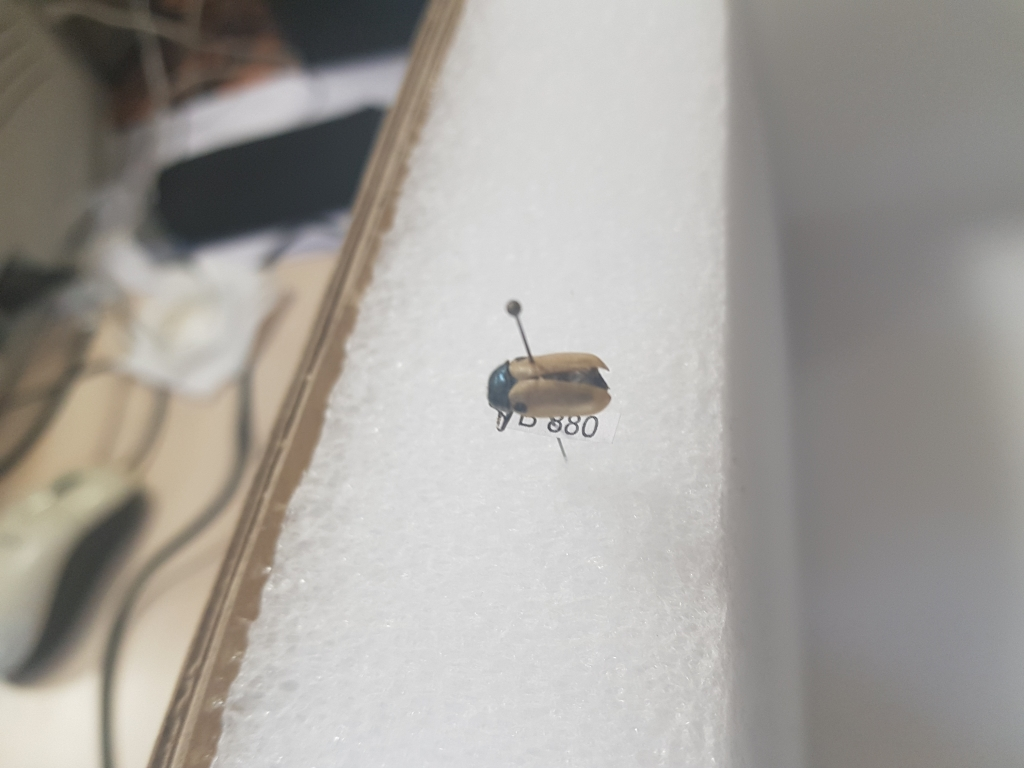Labidostomis_asiatica: (482, 343, 615, 428)
